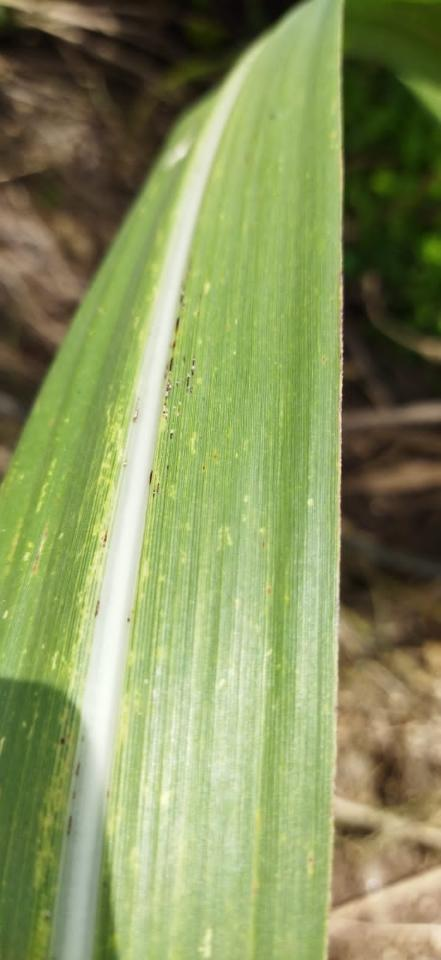Rust: (161, 255, 199, 443), (147, 469, 165, 497), (93, 599, 102, 621), (101, 529, 109, 551)
